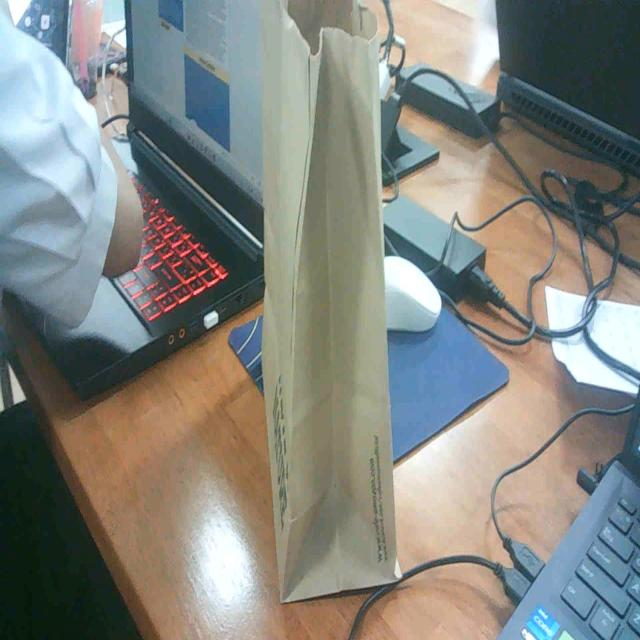bag: (263, 0, 431, 602)
